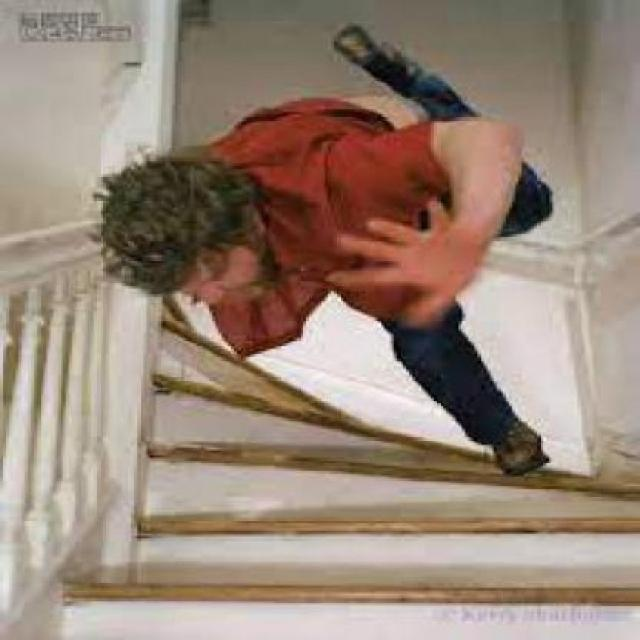fall: (101, 21, 562, 481)
